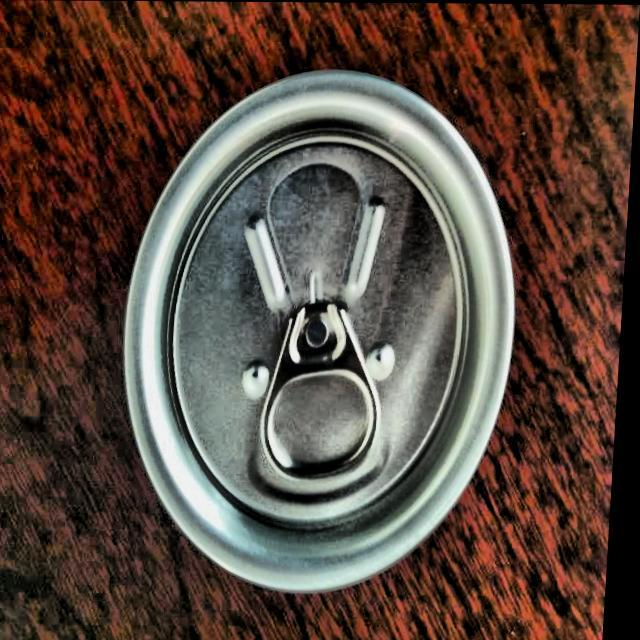litter: (105, 60, 536, 600)
